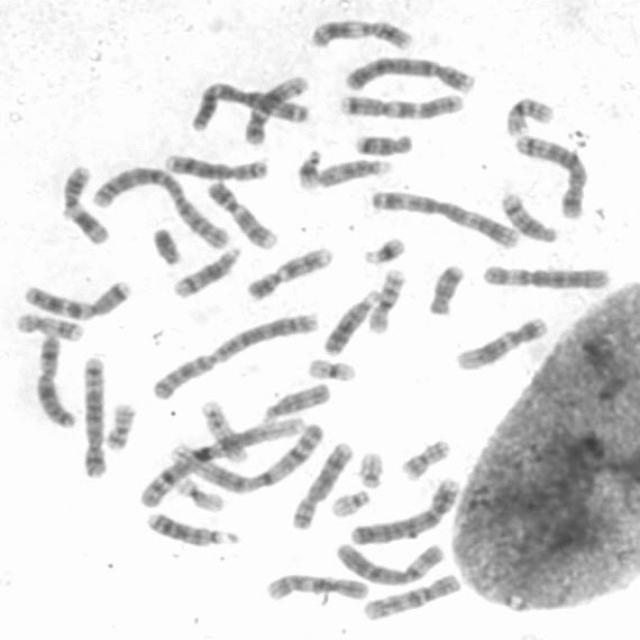A1: (134, 412, 324, 509), (157, 424, 328, 494)
A2: (146, 306, 322, 402), (88, 159, 235, 251)
A3: (366, 184, 522, 250), (184, 75, 311, 134)
B4: (344, 472, 462, 547), (338, 48, 477, 94)
B5: (508, 129, 590, 221), (76, 349, 110, 480)
C10: (357, 568, 464, 622), (260, 568, 372, 603)
C11: (56, 160, 111, 246), (303, 14, 414, 51)
C12: (449, 310, 551, 372), (238, 69, 310, 147)
C6: (330, 536, 448, 586), (476, 258, 615, 292)
C7: (18, 274, 134, 321), (333, 86, 466, 120)
C8: (285, 434, 356, 530), (160, 148, 273, 182)
C9: (240, 240, 336, 302), (202, 176, 280, 250)
D13: (318, 284, 384, 357), (142, 507, 242, 547)
D14: (165, 240, 244, 300), (495, 186, 560, 244)
D15: (257, 376, 332, 423), (312, 153, 395, 189)
E16: (362, 264, 408, 334), (502, 92, 557, 137)
E17: (194, 393, 252, 466), (11, 306, 88, 342)
E18: (424, 258, 468, 317), (351, 127, 416, 157)
F19: (169, 471, 228, 513), (303, 353, 359, 383)
F20: (395, 433, 454, 481), (99, 397, 138, 452)
G21: (358, 230, 409, 265), (292, 142, 324, 191)
G22: (352, 445, 388, 490), (326, 484, 372, 518)
X: (30, 329, 79, 428)
Y: (147, 221, 184, 266)
